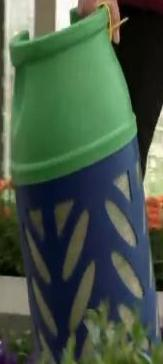cylinder: (1, 0, 163, 364)
